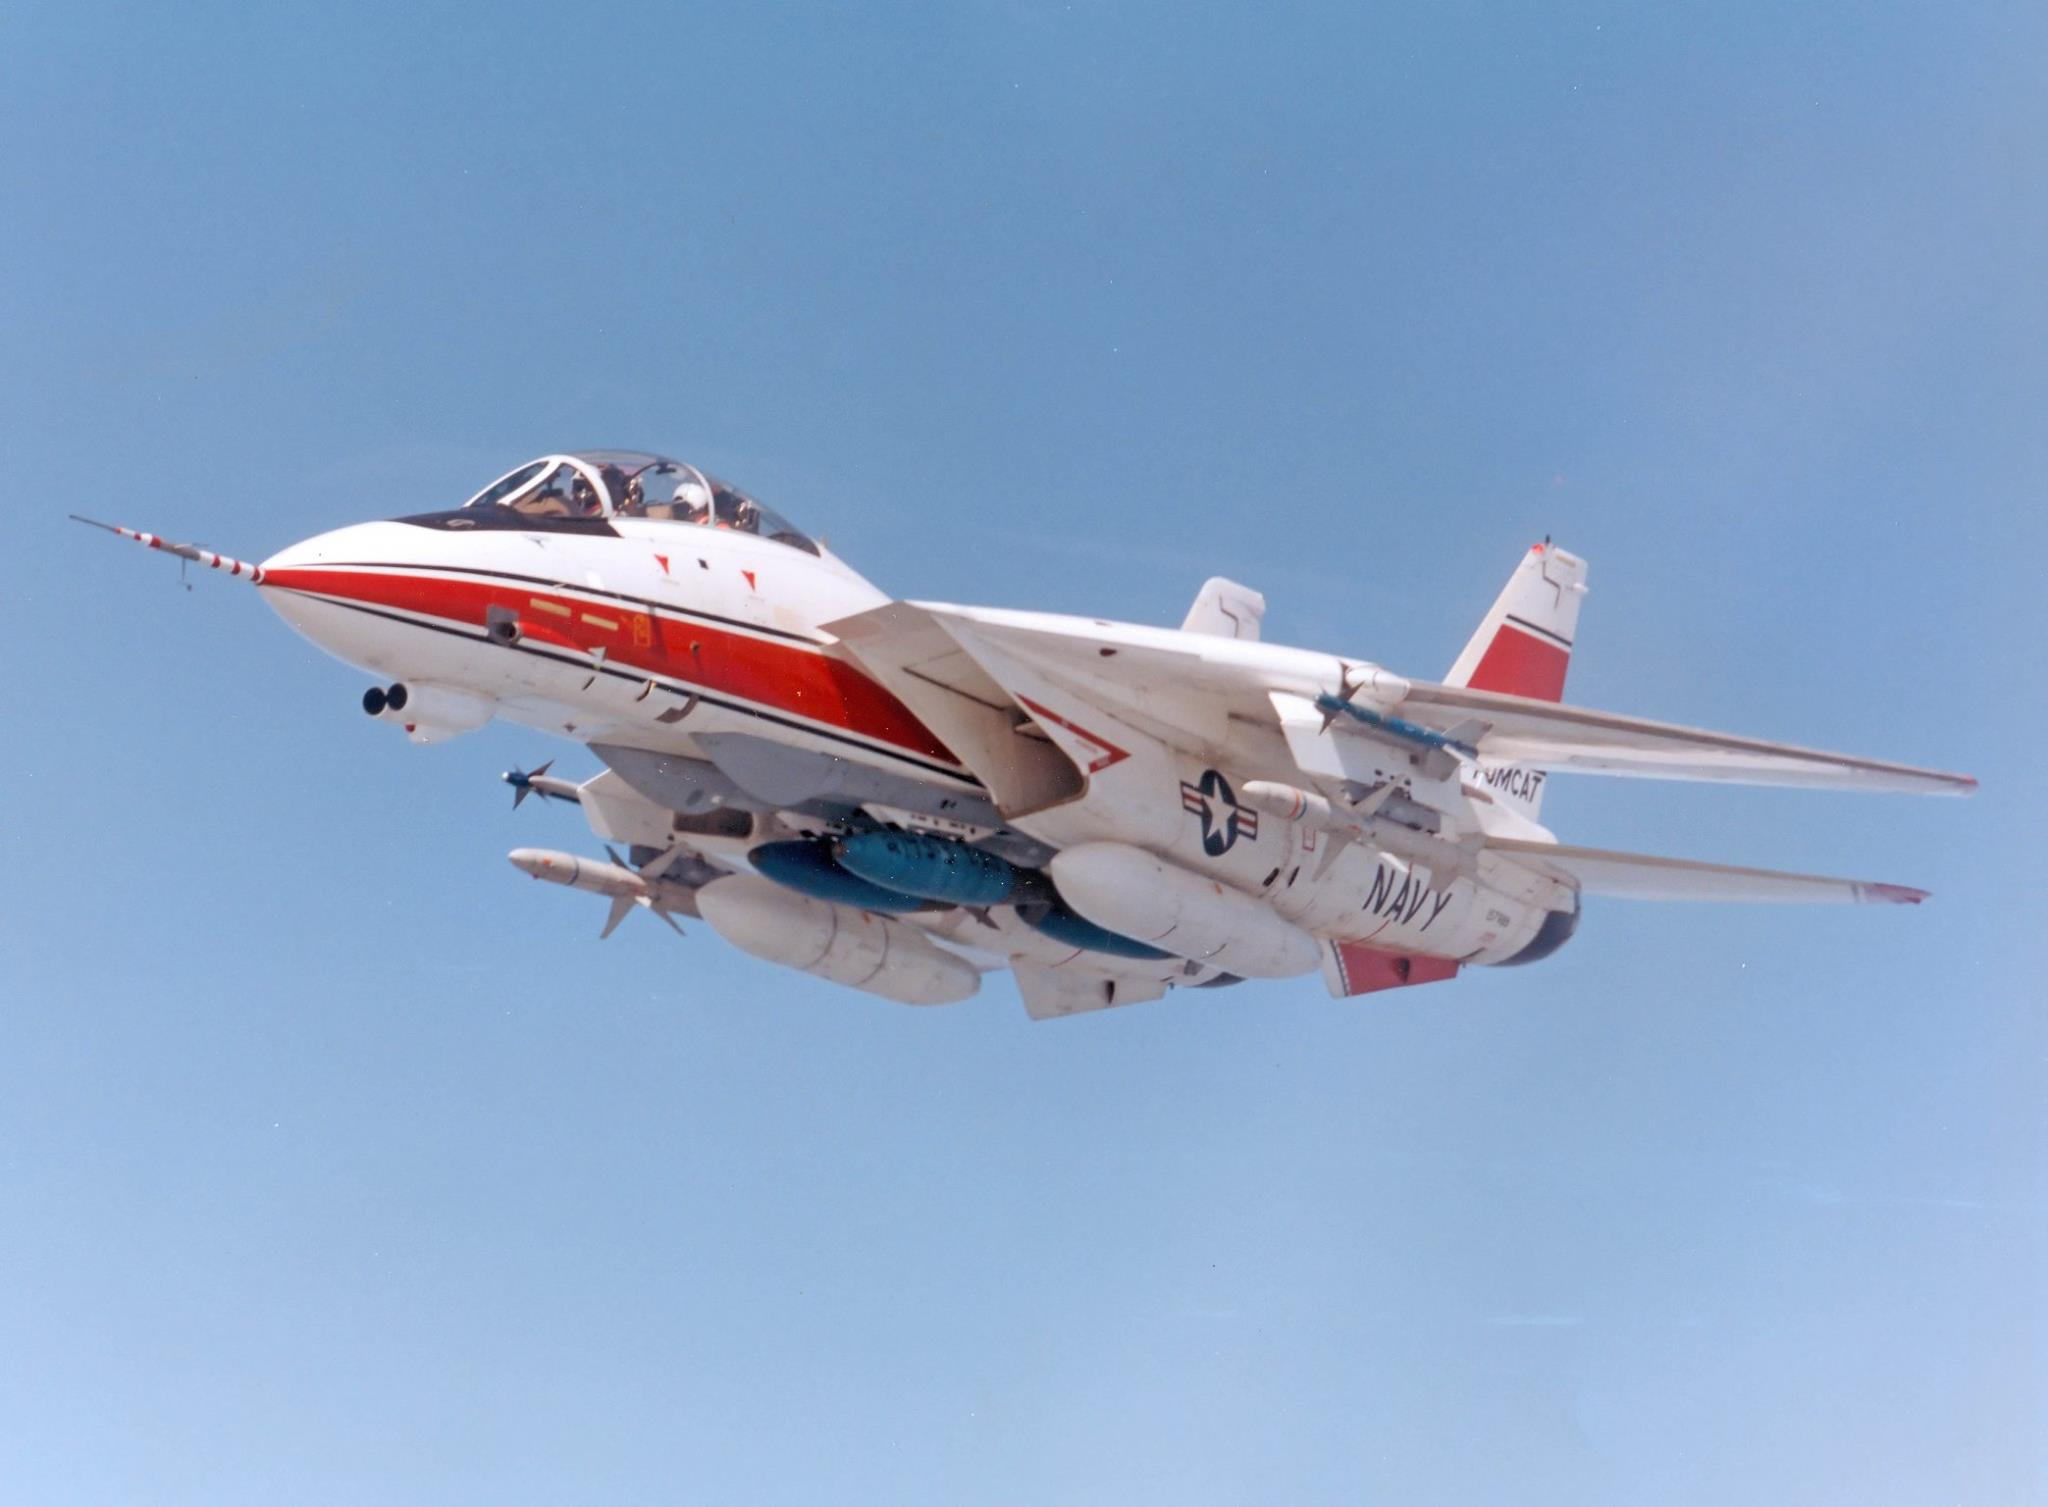F14: (68, 447, 1980, 1022)
